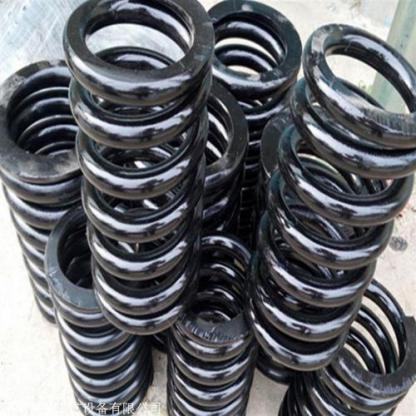FOD: (241, 17, 415, 377), (60, 0, 214, 337), (41, 202, 156, 416), (164, 231, 260, 415)
